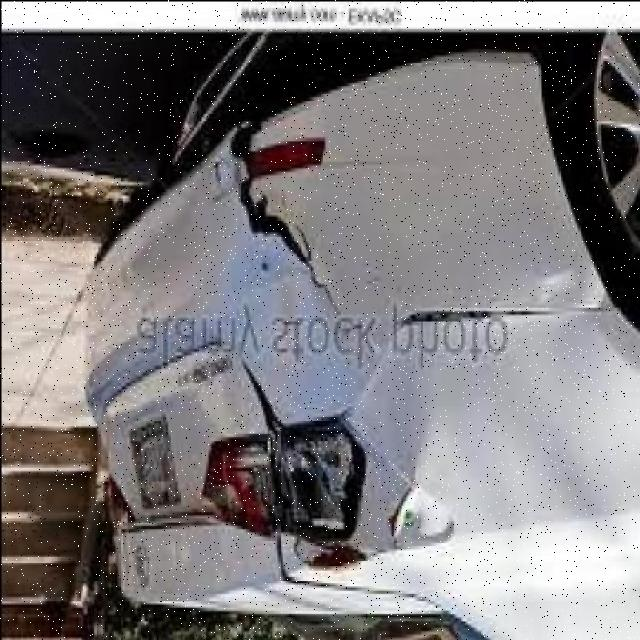damage: (233, 352, 463, 589), (212, 110, 349, 313), (396, 257, 582, 338)
